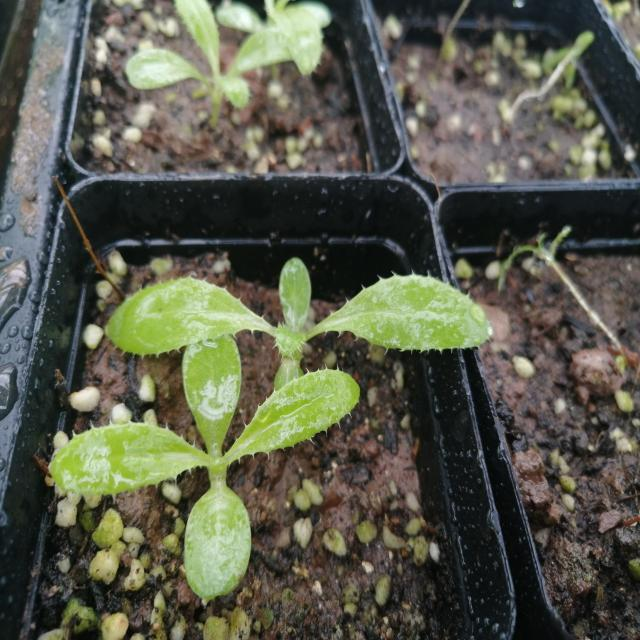field_thistle: (31, 336, 364, 553), (107, 250, 504, 400)
